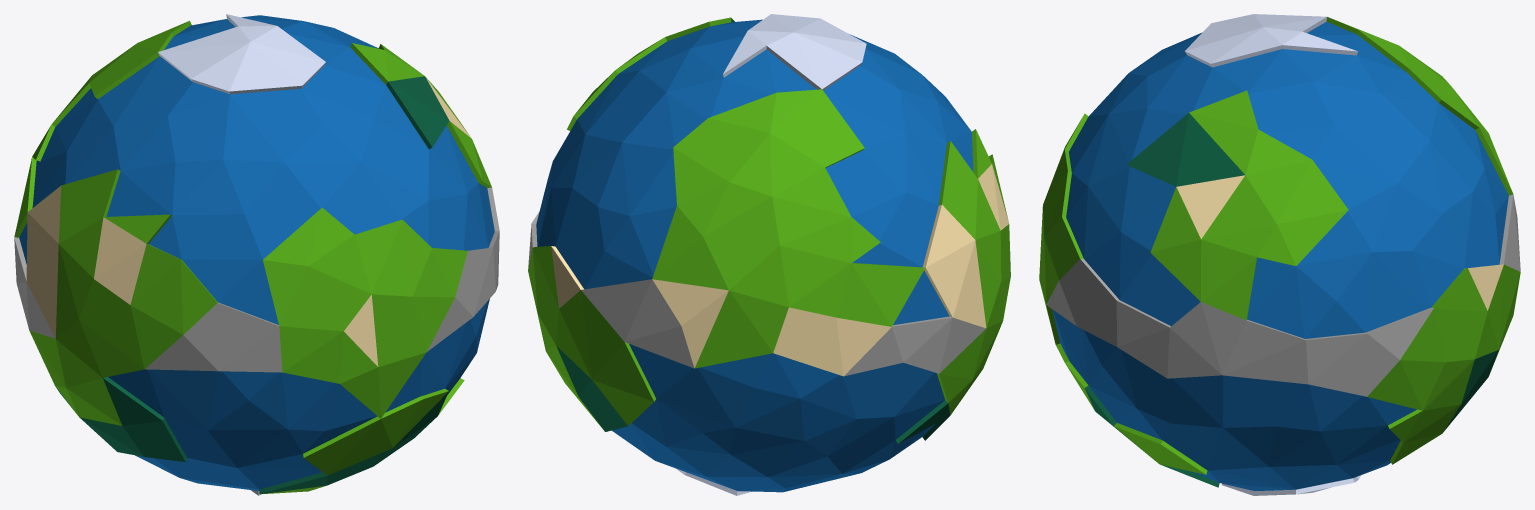
Rendered from earthLikeWithBridge.fbx.
3 renders of one model, left to right at view 1: azimuth 30°, elevation 25°; view 2: azimuth 150°, elevation 25°; view 3: azimuth 270°, elevation 25°, orthographic.
Parts seen in each view (by area): view 1: EarthLike; view 2: EarthLike; view 3: EarthLike.
Boxes of the visible parts, left/top/right/bottom form: EarthLike: left=14, top=14, right=499, bottom=495; EarthLike: left=528, top=14, right=1010, bottom=495; EarthLike: left=1039, top=14, right=1520, bottom=495.
Size of the model in its own units: 489 by 494 by 489.
1 material, 1 textured.
